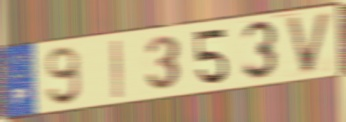3: (238, 18, 284, 84), (143, 34, 181, 93)
5: (192, 28, 230, 87)
9: (44, 45, 83, 109)
I: (110, 38, 124, 101)
V: (283, 9, 334, 77)
